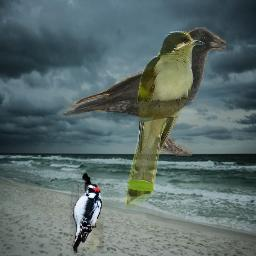Crow: (61, 27, 226, 156)
Cuckoo: (125, 31, 205, 209)
Woodpecker: (69, 184, 104, 253)
